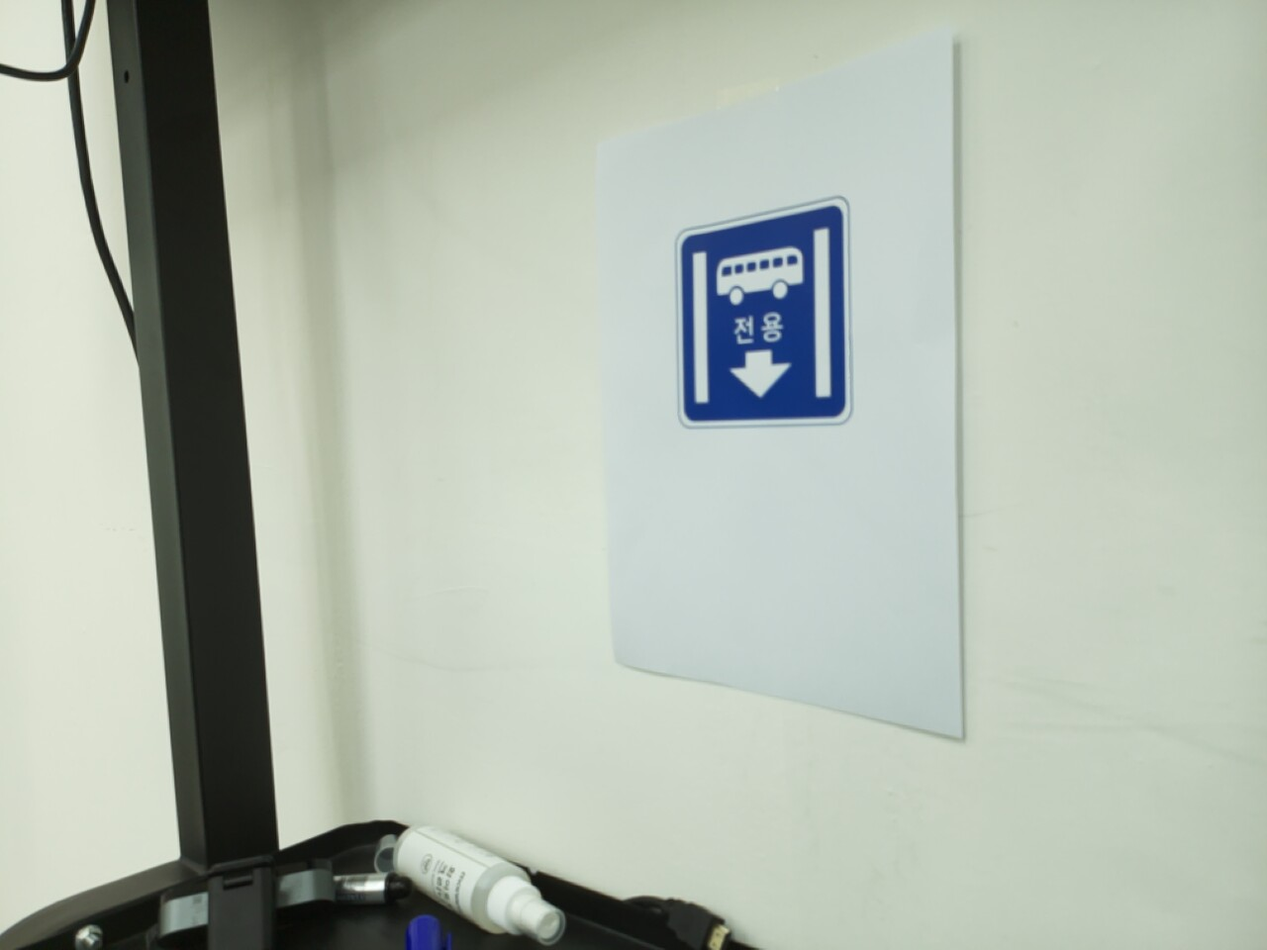bus_only_lane: (674, 198, 853, 429)
